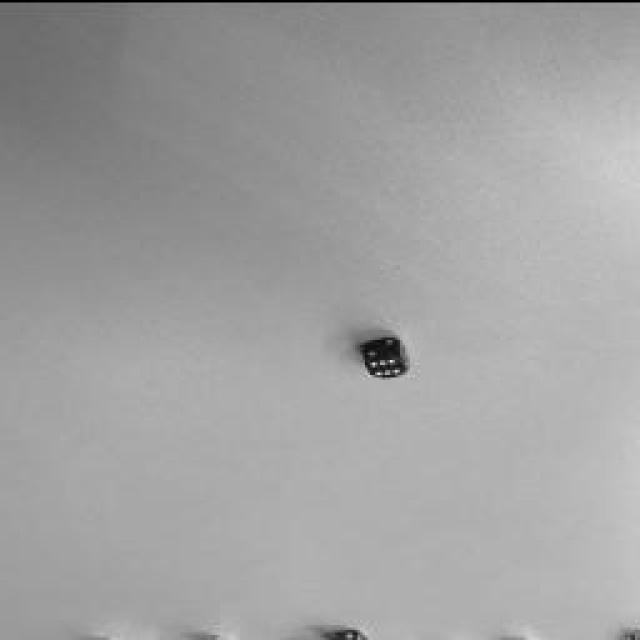dice_6: (366, 355, 406, 375)
